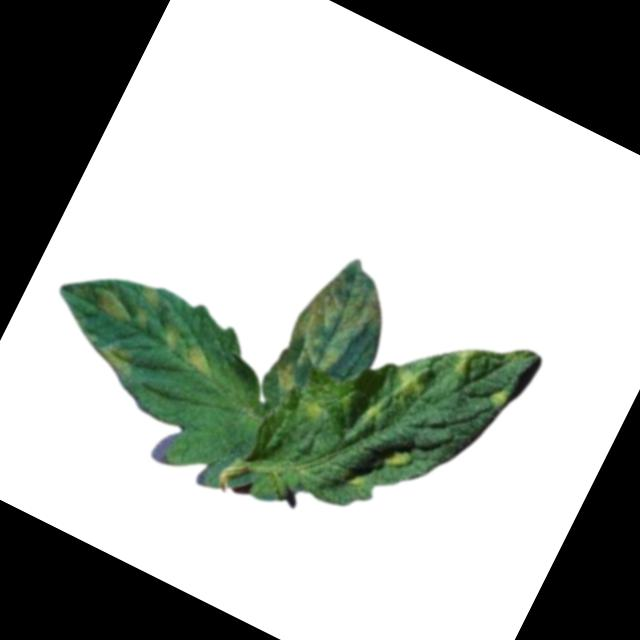Leaf_Mold: (258, 248, 402, 421), (88, 265, 166, 333), (153, 319, 225, 380), (374, 357, 432, 412), (90, 337, 139, 382), (350, 388, 394, 432), (444, 339, 485, 384), (291, 388, 333, 430), (479, 378, 516, 412), (378, 440, 412, 471)
